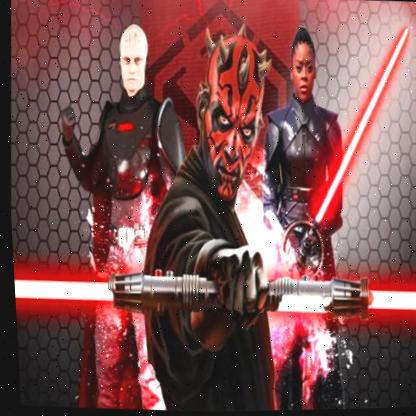sith_lightsaber: (258, 12, 416, 283), (13, 250, 416, 342)
